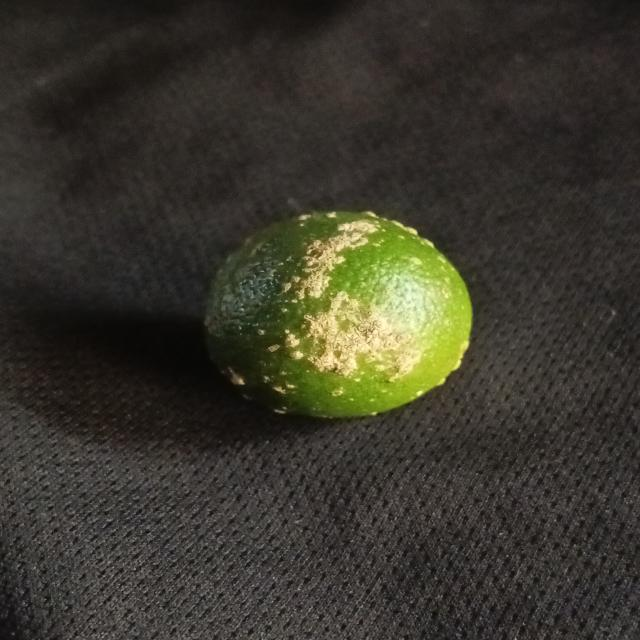scab: (194, 208, 475, 419)
